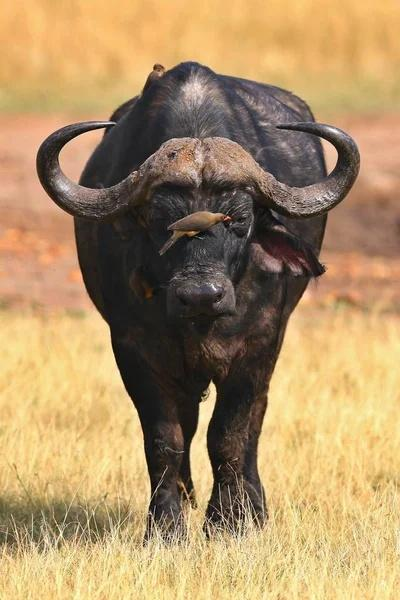buffalo: (36, 62, 359, 540)
